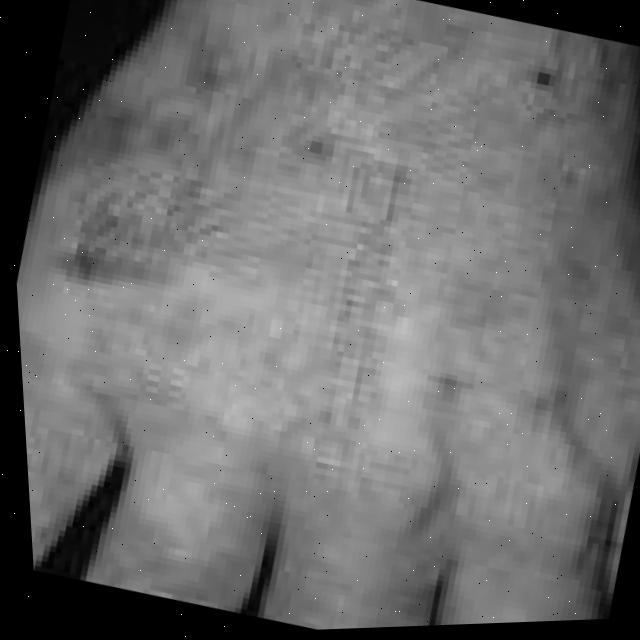Melasma: (72, 110, 242, 314)
